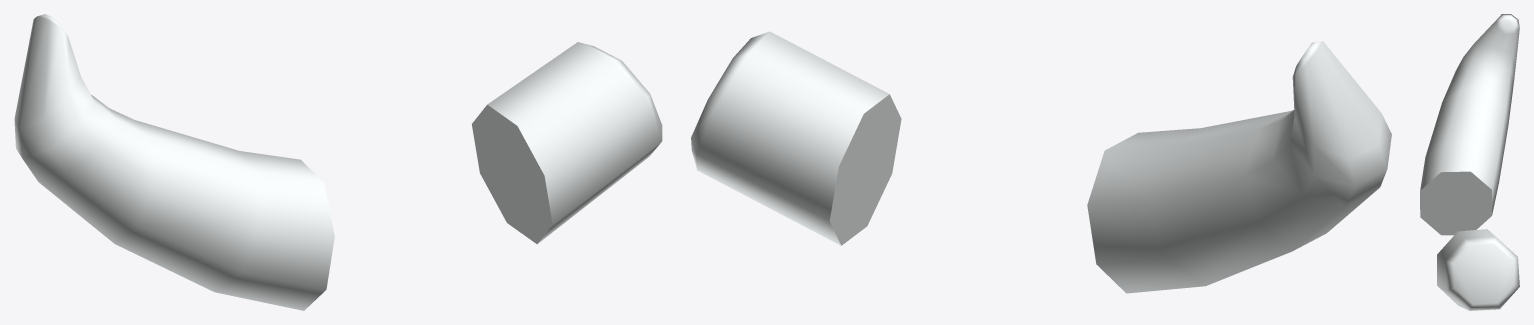
The model's file is Prop_SnowmanYeti.glb.
The picture shows the model from 3 angles, left to right: view 1: azimuth 30°, elevation 25°; view 2: azimuth 150°, elevation 25°; view 3: azimuth 270°, elevation 25°; orthographic projection. The views are drawn at different scales.
Parts seen in each view (by area): view 1: Prop_SnowmanYeti; view 2: Prop_SnowmanYeti; view 3: Prop_SnowmanYeti.
Part boxes in pixels (box(x1,y1,x2,y2)): Prop_SnowmanYeti: box(14, 14, 662, 310); Prop_SnowmanYeti: box(691, 31, 1391, 293); Prop_SnowmanYeti: box(1420, 14, 1519, 310).
Bounding box in the file's own units: 0.6902 × 0.325 × 0.1734.
1 material, 1 textured.
